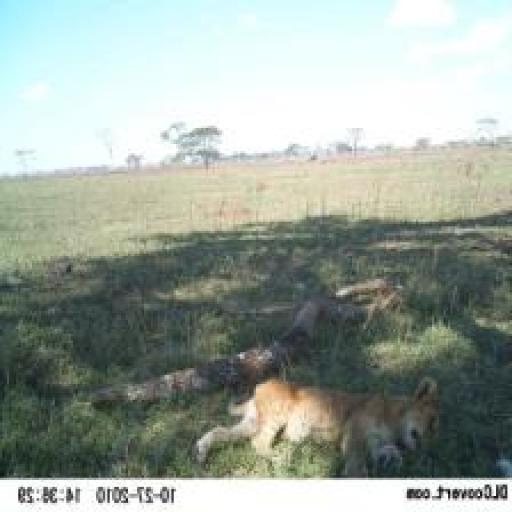lion: (194, 350, 454, 473)
